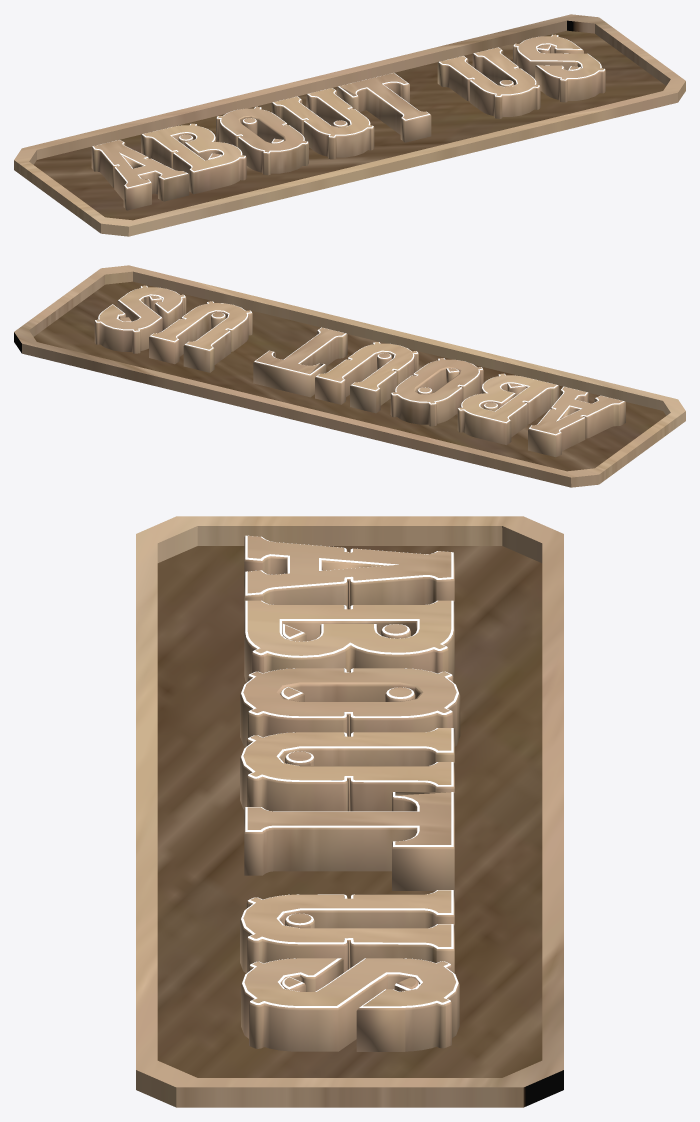
Rendered from AboutUsBoard.glb.
The picture shows the model from 3 angles, top to bottom: view 1: azimuth 30°, elevation 25°; view 2: azimuth 150°, elevation 25°; view 3: azimuth 270°, elevation 25°; orthographic projection. The views are drawn at different scales.
Parts seen in each view (by area): view 1: Plane.003, Text.088; view 2: Plane.003, Text.088; view 3: Plane.003, Text.088.
Part boxes in pixels (x1,y1,x2,y2): Plane.003: [14, 14, 685, 236]; Text.088: [92, 34, 604, 188]; Plane.003: [14, 265, 685, 487]; Text.088: [95, 285, 624, 435]; Plane.003: [136, 516, 563, 1107]; Text.088: [241, 535, 458, 1007].
Size of the model in its own units: 3.6 by 0.142 by 1.14.
Materials: 2 (1 with a texture image).
